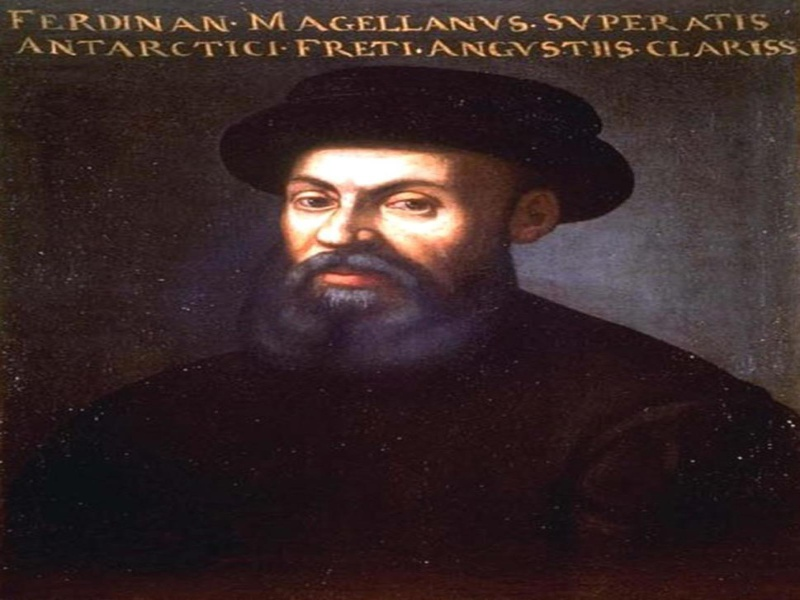TsisyArotava: (254, 99, 498, 387)
